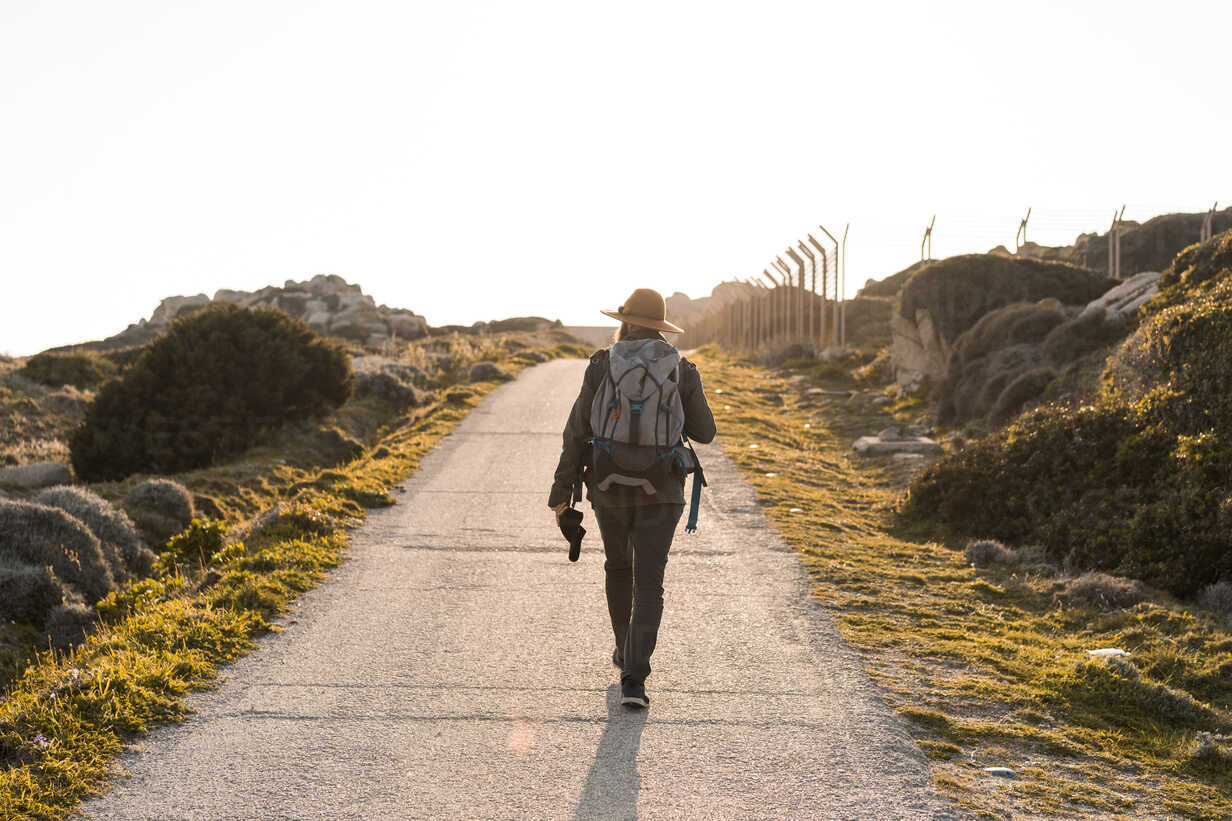person: (544, 287, 722, 713)
